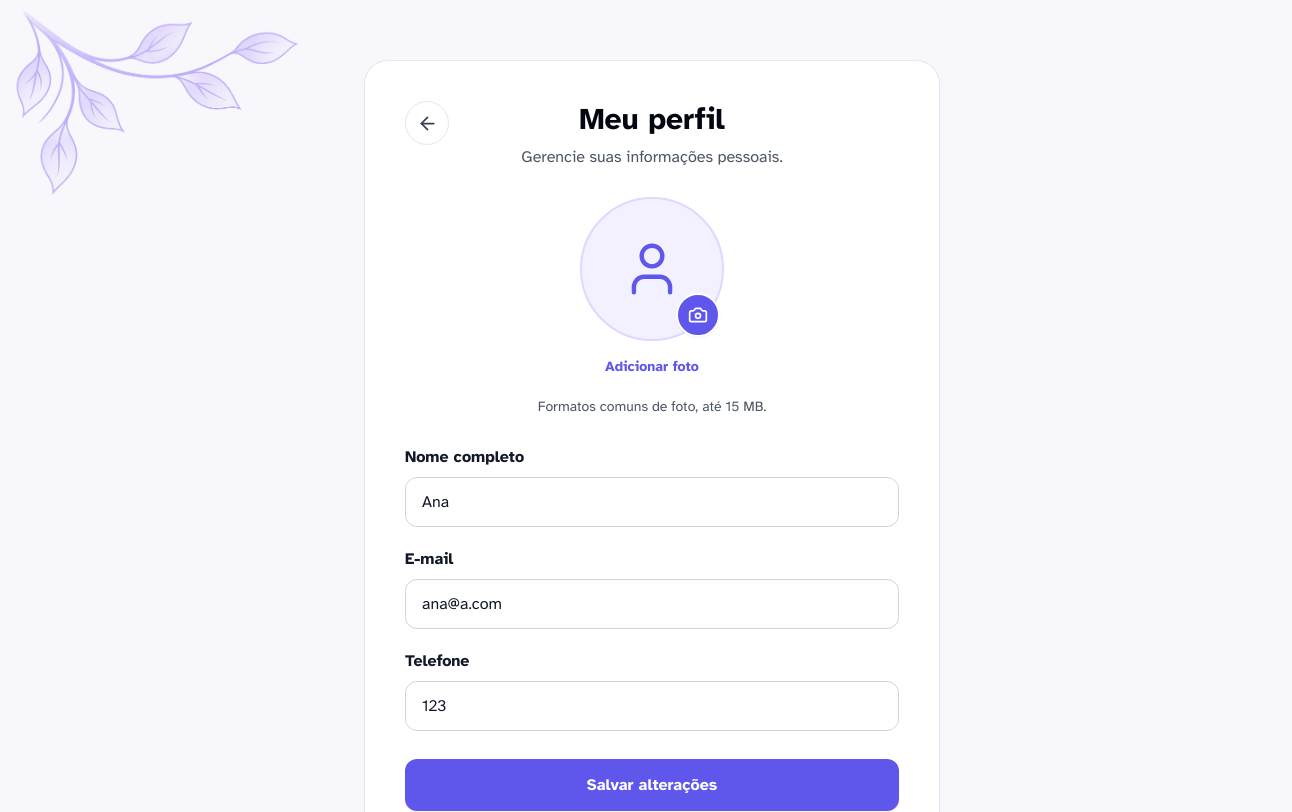
Perfil › falha ao salvar: mostra a mensagem de erro retornada
Expected: the field labelled "Nome completo" is shown, x1=405 y1=477 x2=899 y2=527
Click the button "Salvar alterações" at (652, 785), box x1=405 y1=759 x2=899 y2=811
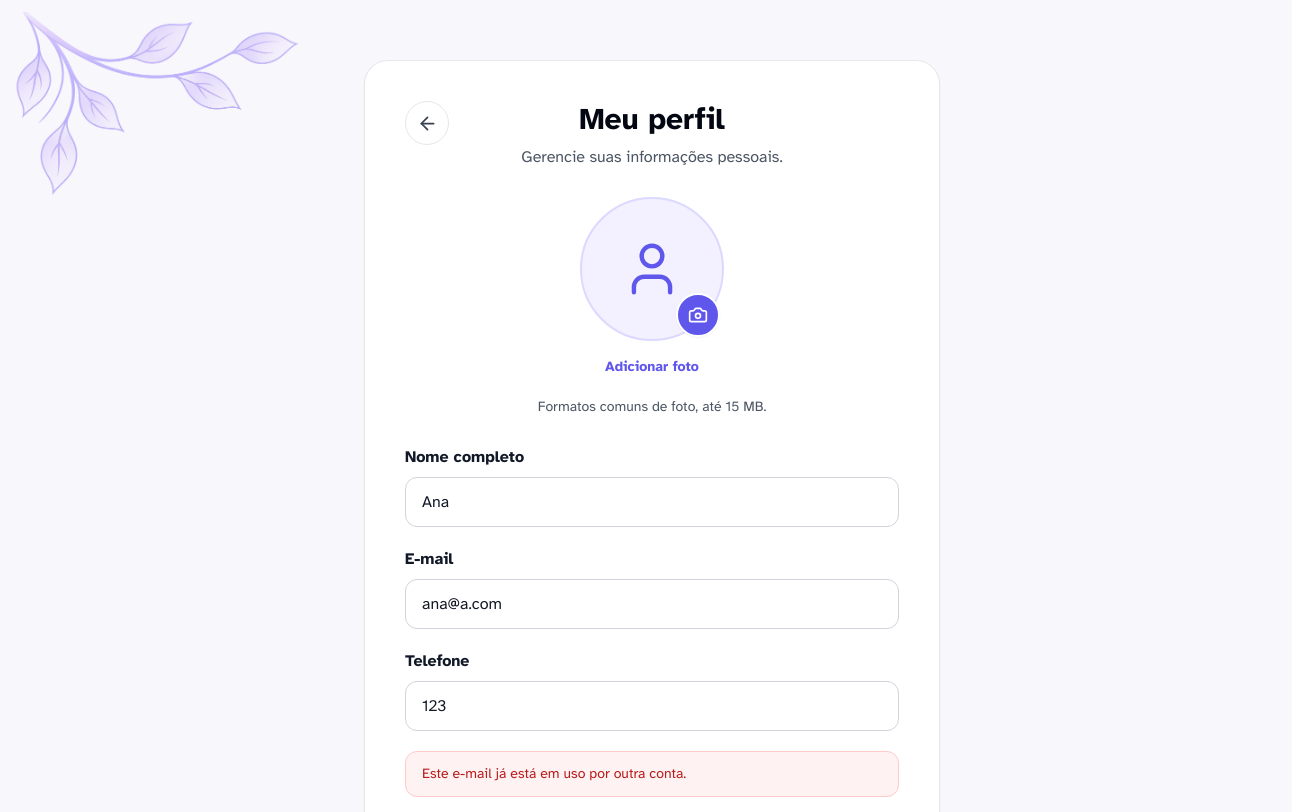
Result: the message shows "já está em uso" at x1=422 y1=765 x2=686 y2=782
